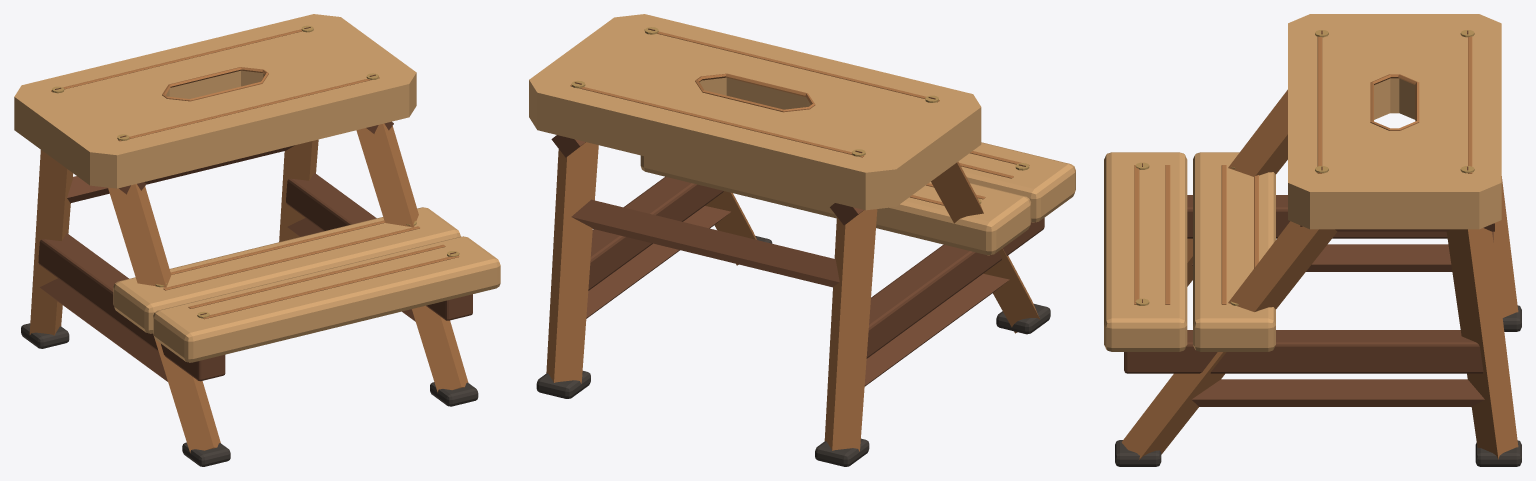
File: 007_wooden_step_stool_v02.glb
3 renders of one model, left to right at view 1: azimuth 30°, elevation 25°; view 2: azimuth 150°, elevation 25°; view 3: azimuth 270°, elevation 25°, orthographic. The views are drawn at different scales.
Visible parts, largest first — view 1: 007 upper step with open carrying slot, 007 lower tread plank 1, 007 lower tread plank 0, 007 front splayed stile -1, 007 front splayed stile 1, 007 lower tread support rail -1, 007 rear splayed stile -1, 007 lower tread support rail 1, 007 lower side stretcher -1, 007 rear splayed stile 1, 007 rear crossbar, 007 lower step anti-slip inlay.002 (+9 smaller); view 2: 007 upper step with open carrying slot, 007 lower tread plank 0, 007 rear splayed stile -1, 007 rear splayed stile 1, 007 rear crossbar, 007 lower tread support rail -1, 007 lower tread plank 1, 007 lower tread support rail 1, 007 front splayed stile -1, 007 lower side stretcher -1, 007 lower side stretcher 1, 007 front splayed stile 1 (+6 smaller); view 3: 007 upper step with open carrying slot, 007 lower tread plank 1, 007 lower tread plank 0, 007 lower tread support rail 1, 007 rear splayed stile 1, 007 front splayed stile 1, 007 lower side stretcher 1, 007 lower side stretcher -1, 007 front splayed stile -1, 007 rear splayed stile -1, 007 lower tread support rail -1, 007 lower step anti-slip inlay.001 (+8 smaller).
Boxes of the visible parts, bbox=[...] form: 007 upper step with open carrying slot: bbox=[14, 14, 416, 188]; 007 lower tread plank 1: bbox=[153, 236, 500, 362]; 007 lower tread plank 0: bbox=[113, 207, 460, 333]; 007 front splayed stile -1: bbox=[108, 184, 220, 452]; 007 front splayed stile 1: bbox=[356, 123, 468, 392]; 007 lower tread support rail -1: bbox=[38, 233, 225, 381]; 007 rear splayed stile -1: bbox=[29, 150, 73, 335]; 007 lower tread support rail 1: bbox=[286, 173, 472, 320]; 007 lower side stretcher -1: bbox=[39, 278, 167, 381]; 007 rear splayed stile 1: bbox=[279, 139, 318, 241]; 007 rear crossbar: bbox=[67, 145, 294, 203]; 007 lower step anti-slip inlay.002: bbox=[188, 244, 445, 308]; 007 upper step with open carrying slot: bbox=[529, 14, 981, 210]; 007 lower tread plank 0: bbox=[640, 155, 1031, 255]; 007 rear splayed stile -1: bbox=[824, 209, 877, 451]; 007 rear splayed stile 1: bbox=[546, 142, 598, 383]; 007 rear crossbar: bbox=[571, 199, 839, 287]; 007 lower tread support rail -1: bbox=[866, 218, 1044, 358]; 007 lower tread plank 1: bbox=[958, 142, 1075, 222]; 007 lower tread support rail 1: bbox=[588, 176, 723, 290]; 007 front splayed stile -1: bbox=[931, 161, 1039, 333]; 007 lower side stretcher -1: bbox=[864, 273, 1009, 386]; 007 lower side stretcher 1: bbox=[586, 206, 731, 318]; 007 front splayed stile 1: bbox=[705, 191, 756, 265]; 007 upper step with open carrying slot: bbox=[1288, 14, 1501, 229]; 007 lower tread plank 1: bbox=[1104, 152, 1187, 351]; 007 lower tread plank 0: bbox=[1193, 152, 1275, 351]; 007 lower tread support rail 1: bbox=[1124, 330, 1483, 373]; 007 rear splayed stile 1: bbox=[1446, 228, 1518, 459]; 007 front splayed stile 1: bbox=[1121, 221, 1337, 459]; 007 lower side stretcher 1: bbox=[1191, 379, 1484, 406]; 007 lower side stretcher -1: bbox=[1191, 244, 1452, 271]; 007 front splayed stile -1: bbox=[1187, 89, 1287, 286]; 007 rear splayed stile -1: bbox=[1493, 176, 1518, 317]; 007 lower tread support rail -1: bbox=[1187, 195, 1447, 238]; 007 lower step anti-slip inlay.001: bbox=[1221, 165, 1226, 304].
Size of the model in its own units: 0.665 by 0.5149 by 0.659.
